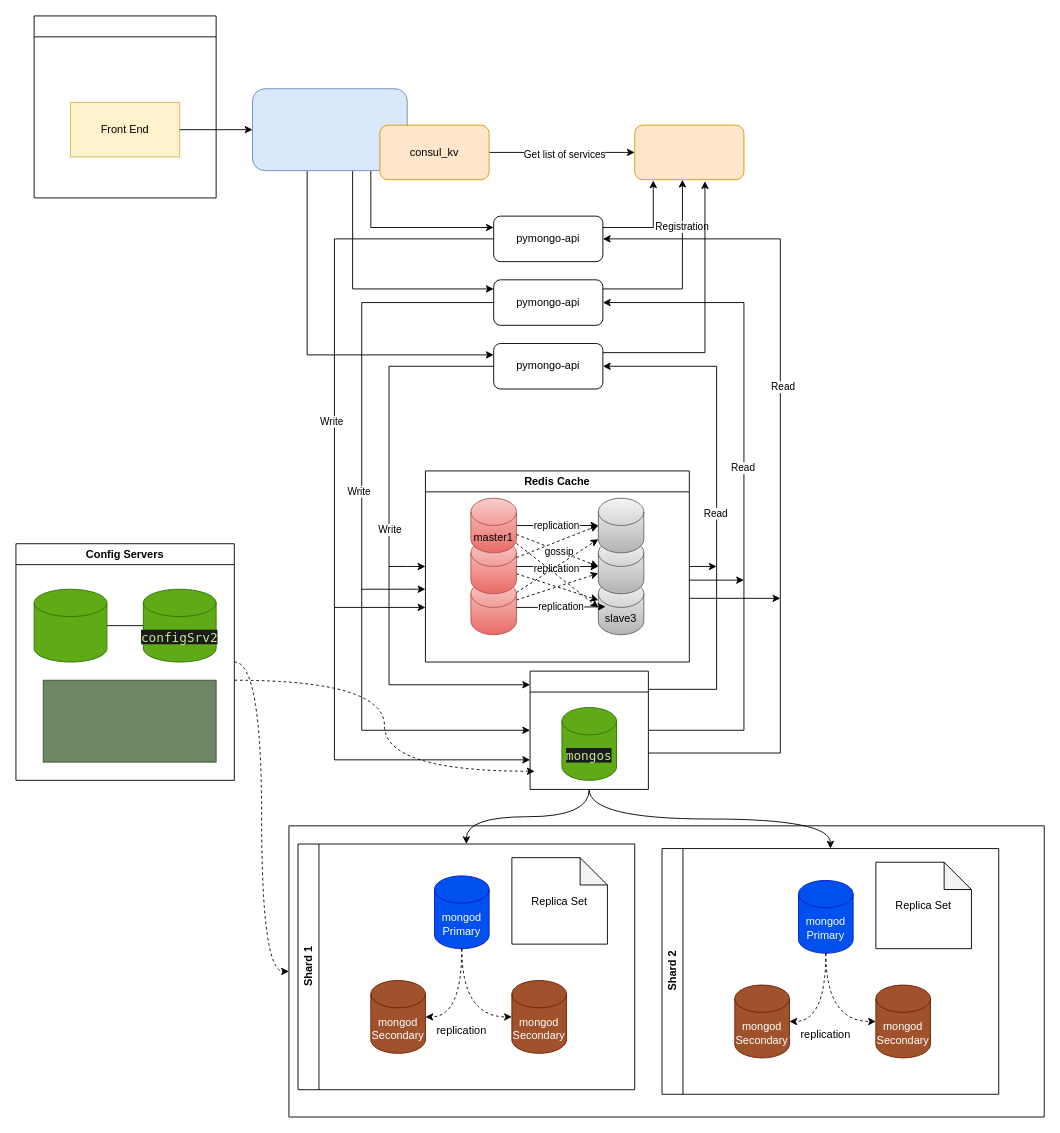
This 1060x1133 diagram has some shape labels left out. The shapes that lost their labels are listed below. From the top down, each one's box as (x1, y1, x2, y2) in pixels, then its label:
(33, 15, 216, 198): Сайт "Мобильный мир"
(252, 88, 407, 171): APISIX Gateway
(634, 124, 744, 180): Consul
(597, 497, 644, 553): slave1
(470, 538, 516, 594): master2
(597, 538, 644, 594): slave2
(33, 588, 107, 662): configSrv1
(470, 579, 516, 635): master3
(42, 679, 216, 762): hash(name) ==> Shard 1 hash(name) ==> Shard 2
(529, 670, 648, 789): Router Tier
